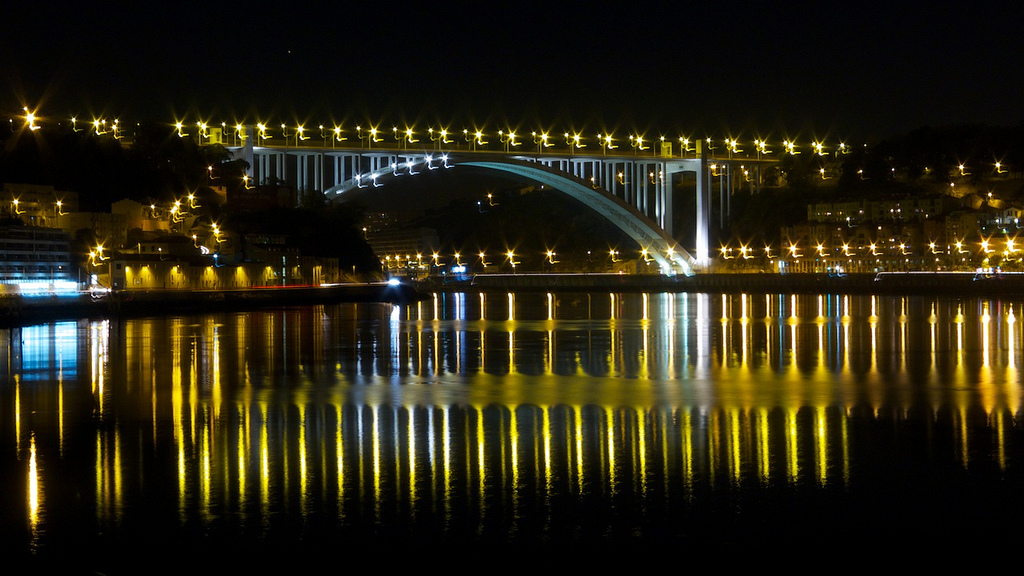arrabida: (213, 135, 786, 278)
